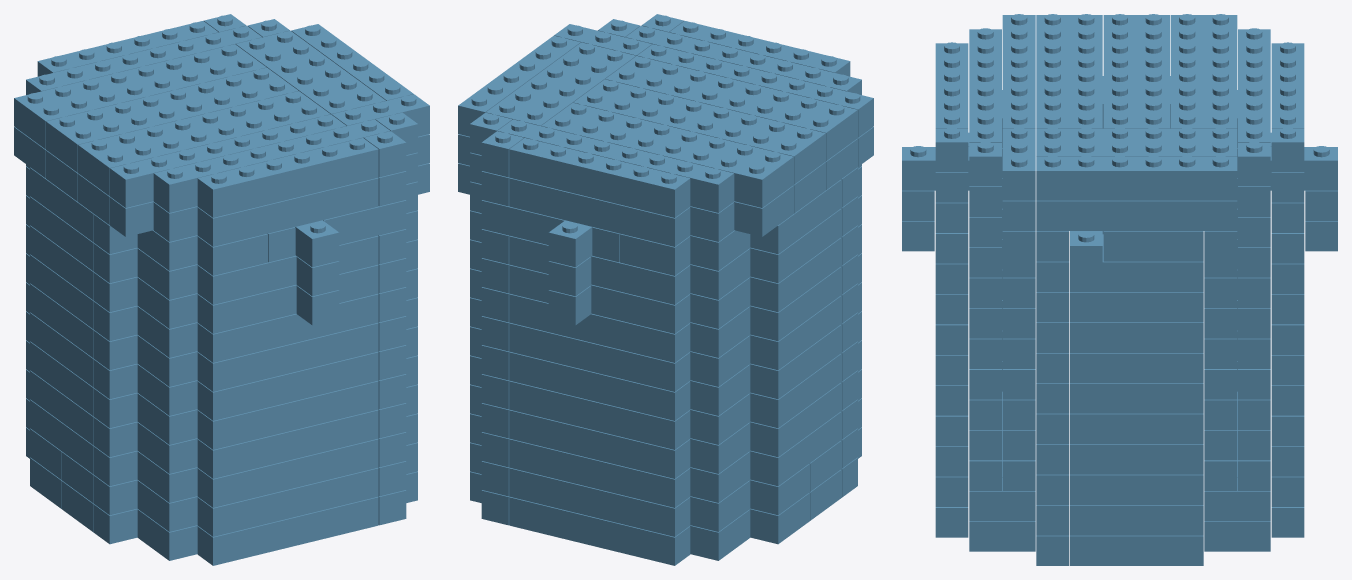
The model's file is 074_bookshelf_L4.glb.
The picture shows the model from 3 angles, left to right: view 1: azimuth 30°, elevation 25°; view 2: azimuth 150°, elevation 25°; view 3: azimuth 270°, elevation 25°; orthographic projection. The views are drawn at different scales.
Size of the model in its own units: 11.98 by 13.13 by 12.98.
